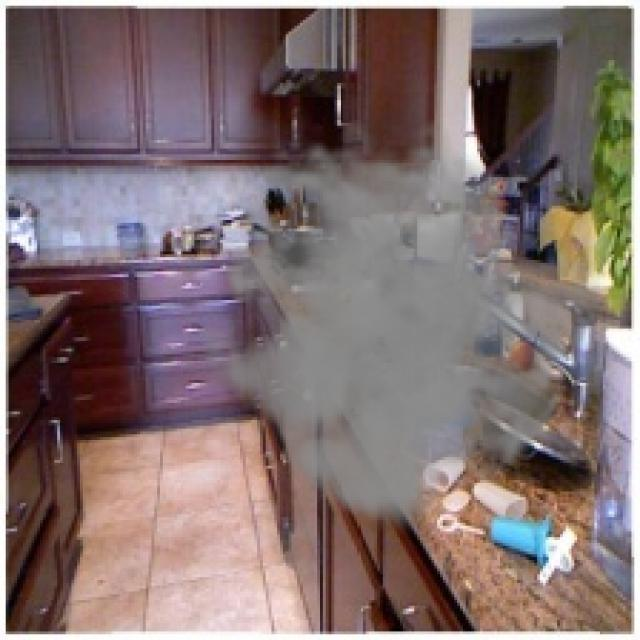Smoke: (182, 117, 608, 534)
